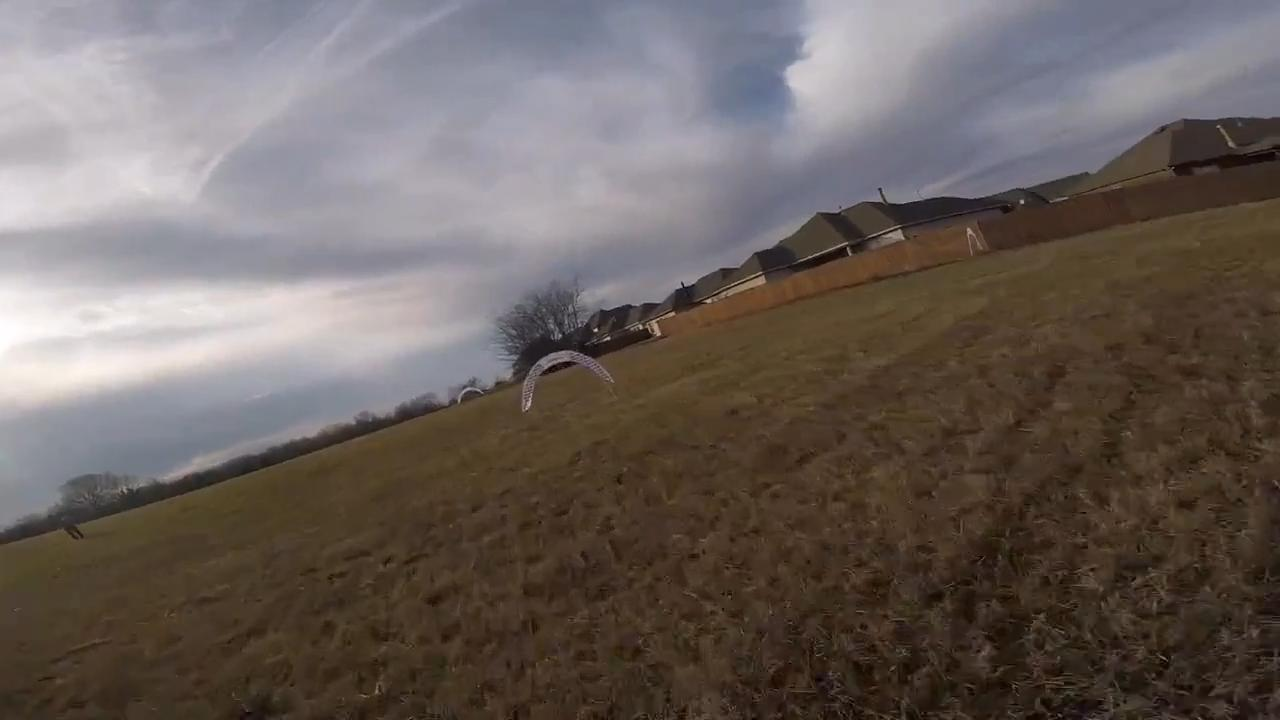gate: (515, 349, 614, 417)
